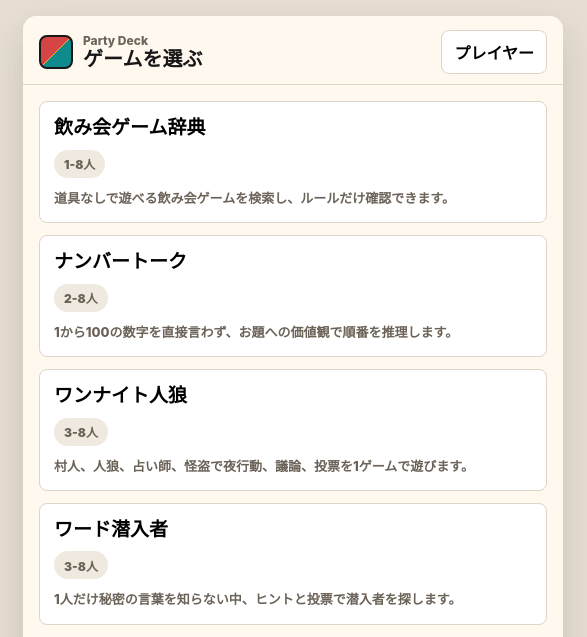
Test: App pass-and-play flows › shows a valid Werewolf role set in setup
Click the button "ワンナイト人狼 3-8人 村人、人狼、占い師、怪盗で夜行動、議論、投票を1ゲームで遊びます。" at (121, 395), box [39,369,547,491]
(page scrolled)
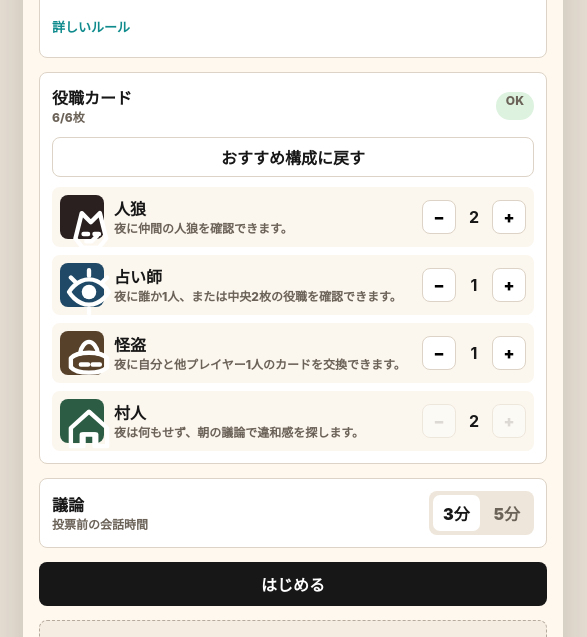
Expected: the button "はじめる" is enabled, [39,562,547,606]
